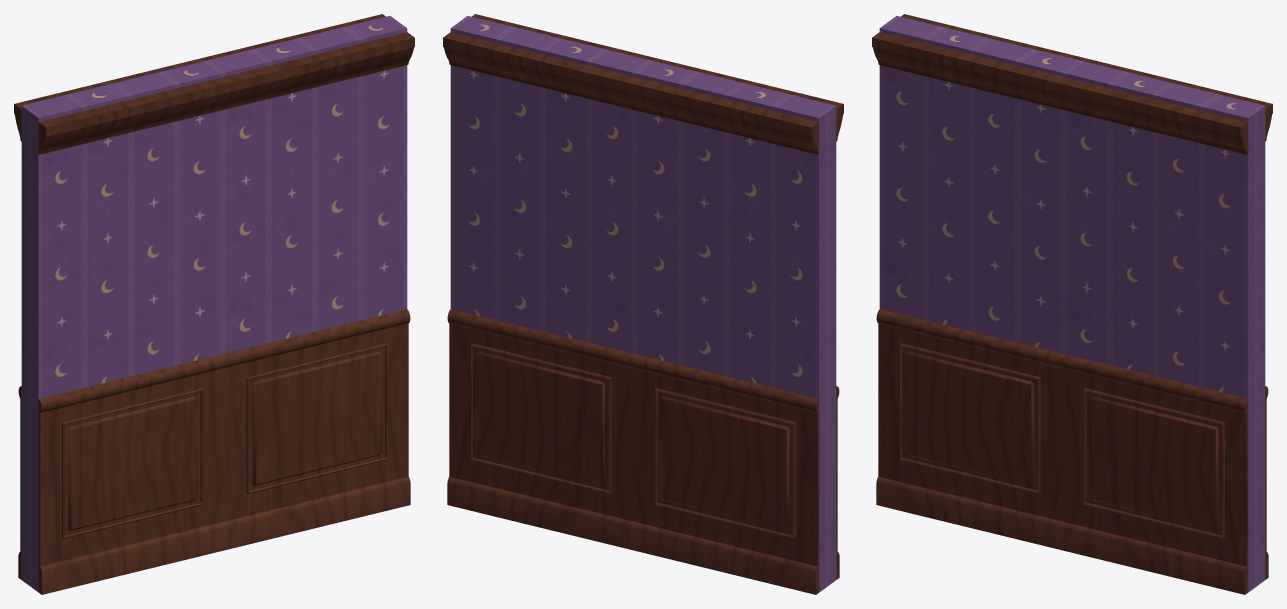
Rendered from wall.glb.
3 renders of one model, left to right at view 1: azimuth 30°, elevation 25°; view 2: azimuth 150°, elevation 25°; view 3: azimuth 330°, elevation 25°, orthographic.
Parts seen in each view (by area): view 1: Wall; view 2: Wall; view 3: Wall.
Boxes of the visible parts, x1,y1,x2,y2 form: Wall: (14,14,414,594); Wall: (443,14,843,594); Wall: (872,14,1272,594).
Bounding box in the file's own units: 2 × 2.46 × 0.304.
Materials: 2 (2 with a texture image).
